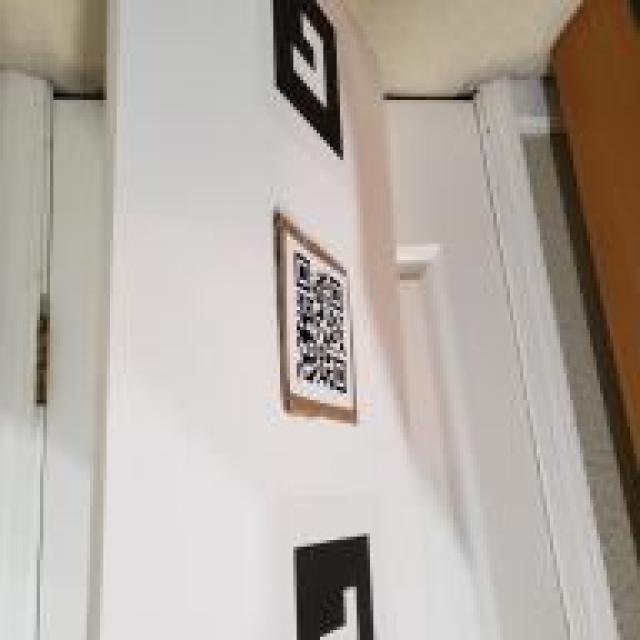qr_code: (294, 252, 347, 395)
